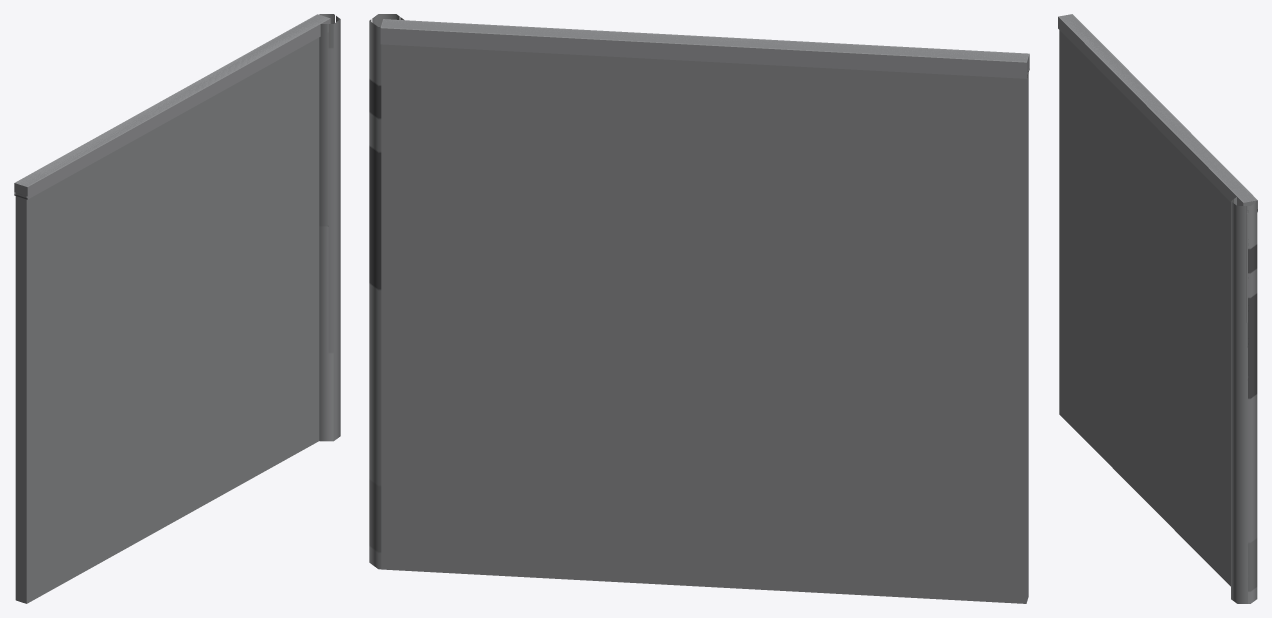
The picture shows the model from 3 angles, left to right: view 1: azimuth 30°, elevation 25°; view 2: azimuth 150°, elevation 25°; view 3: azimuth 270°, elevation 25°; orthographic projection. The views are drawn at different scales.
Size of the model in its own units: 1.03 by 1 by 0.4552.
